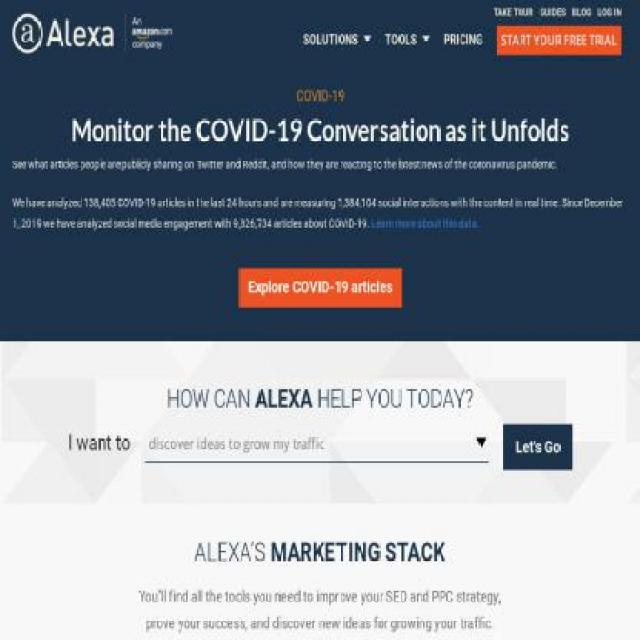button: (238, 268, 402, 307), (497, 26, 621, 56), (502, 424, 573, 470), (444, 20, 482, 60)
field: (145, 424, 489, 462)
